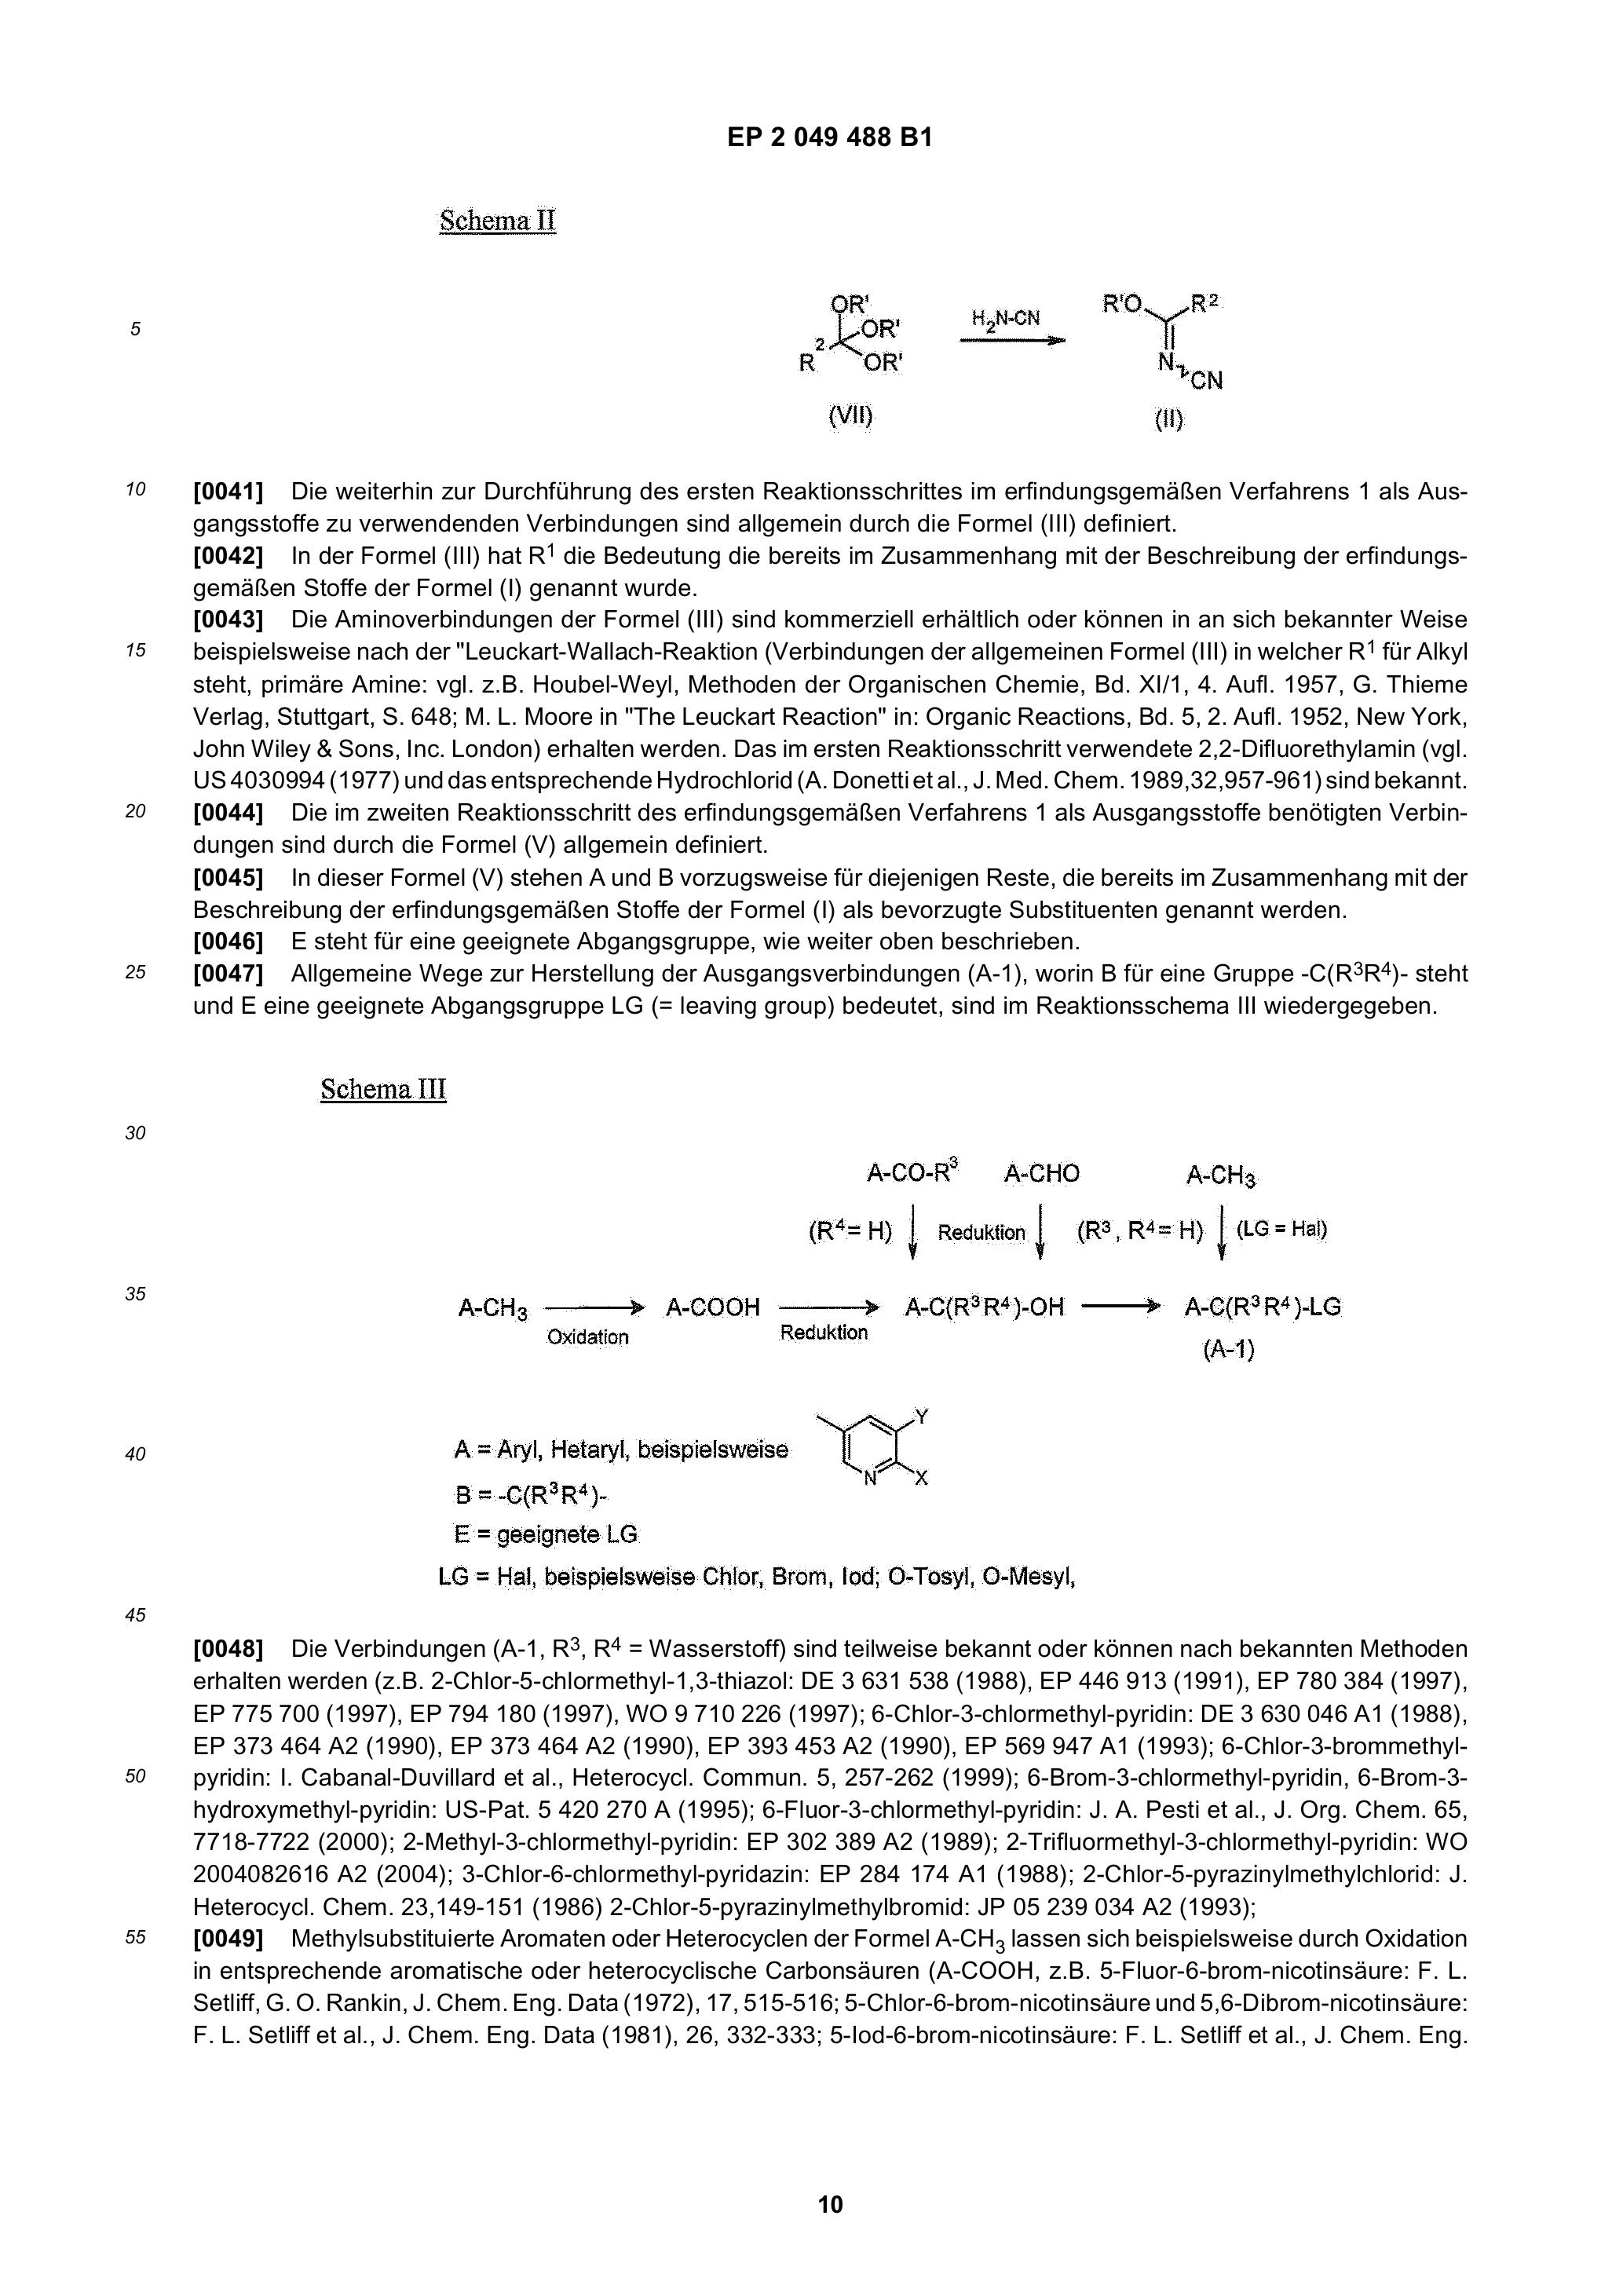reactions: (293, 1061, 1375, 1613), (696, 242, 1263, 466)
